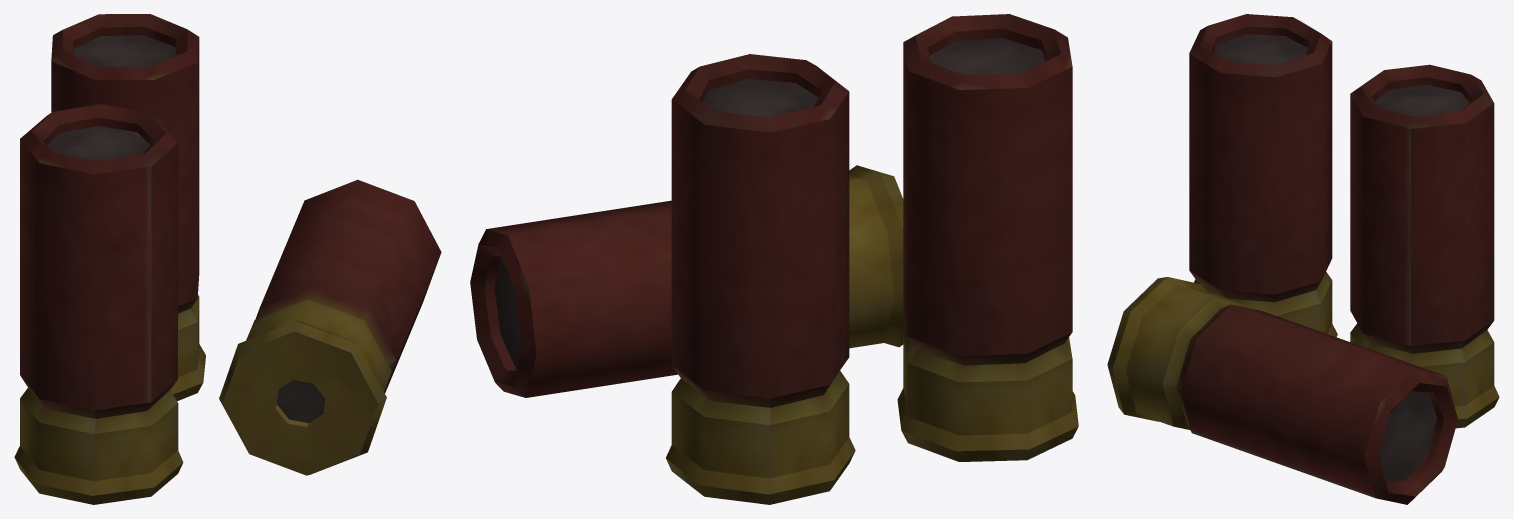
File: shotgun_ammo_1.fbx
3 views of the same model, side by side, from view 1: azimuth 30°, elevation 25°; view 2: azimuth 150°, elevation 25°; view 3: azimuth 270°, elevation 25° (orthographic). The views are drawn at different scales.
Visible parts, largest first — view 1: shotgun_ammo_1; view 2: shotgun_ammo_1; view 3: shotgun_ammo_1.
Boxes of the visible parts, x1=… form: shotgun_ammo_1: x1=14, y1=14, x2=441, y2=504; shotgun_ammo_1: x1=470, y1=14, x2=1078, y2=504; shotgun_ammo_1: x1=1107, y1=14, x2=1499, y2=504.
Bounding box in the file's own units: 0.1239 × 0.0971 × 0.0854.
